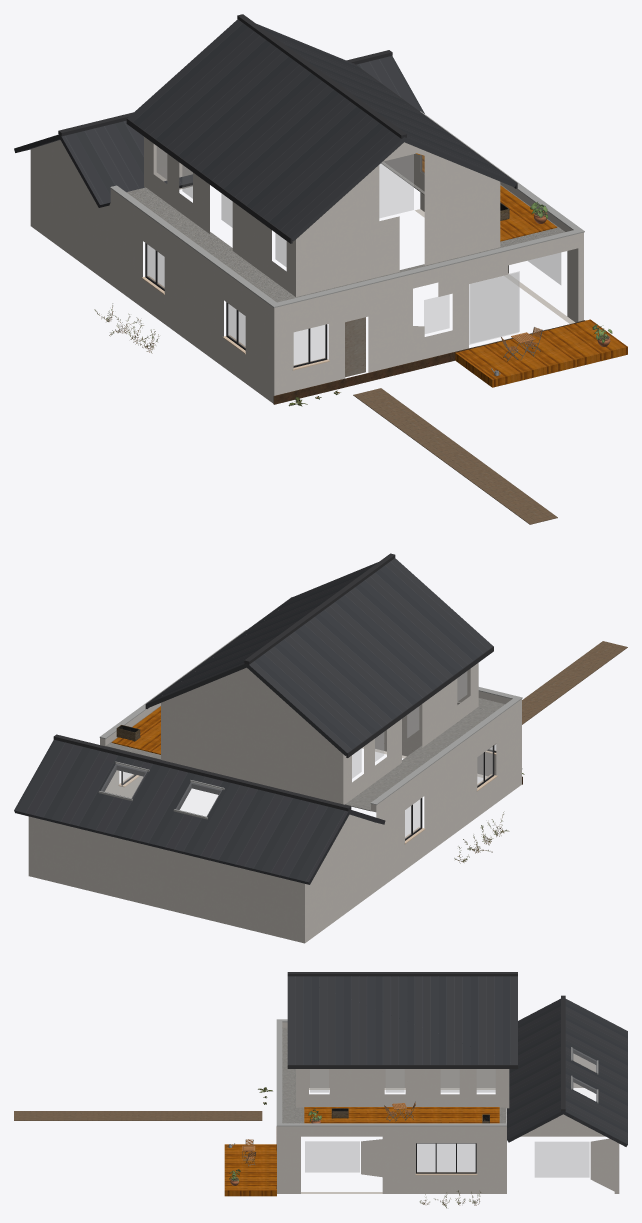
File: house_ext.glb
3 renders of one model, top to bottom at view 1: azimuth 30°, elevation 25°; view 2: azimuth 150°, elevation 25°; view 3: azimuth 270°, elevation 25°, orthographic. The views are drawn at different scales.
Parts seen in each view (by area): view 1: G_ext, G_roof, G_glass, G_ext_props, G_ext_plants; view 2: G_ext, G_roof, G_glass, G_ext_props; view 3: G_roof, G_ext, G_glass, G_ext_props, G_ext_plants.
Part boxes in pixels (bbox=[...]): G_ext: bbox=[30, 63, 627, 524]; G_roof: bbox=[14, 14, 516, 241]; G_glass: bbox=[147, 146, 560, 365]; G_ext_props: bbox=[141, 202, 542, 377]; G_ext_plants: bbox=[94, 202, 612, 406]; G_ext: bbox=[28, 597, 627, 943]; G_roof: bbox=[14, 553, 493, 884]; G_glass: bbox=[101, 671, 495, 838]; G_ext_props: bbox=[116, 725, 497, 843]; G_roof: bbox=[287, 972, 627, 1146]; G_ext: bbox=[14, 1019, 619, 1196]; G_glass: bbox=[305, 1048, 596, 1177]; G_ext_props: bbox=[227, 1069, 489, 1175]; G_ext_plants: bbox=[229, 1087, 481, 1208].
Size of what is drawn, in the model's own units: 18.82 by 9.42 by 32.38.
29 materials, 24 textured.
